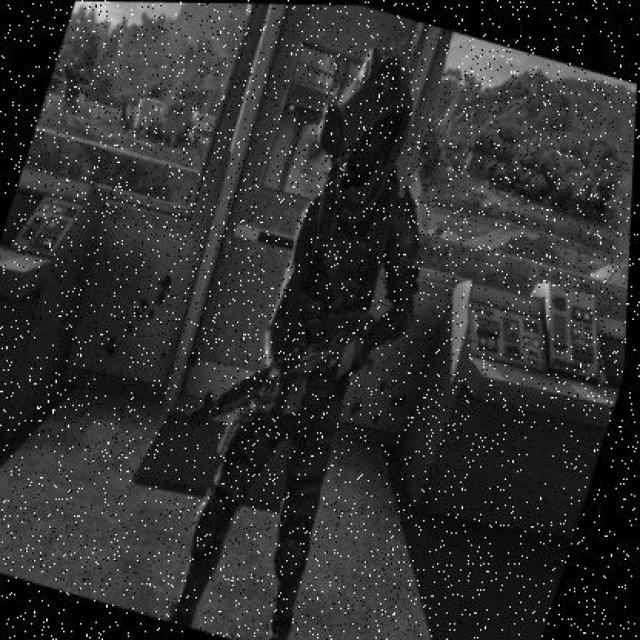weapon: (168, 308, 381, 430)
